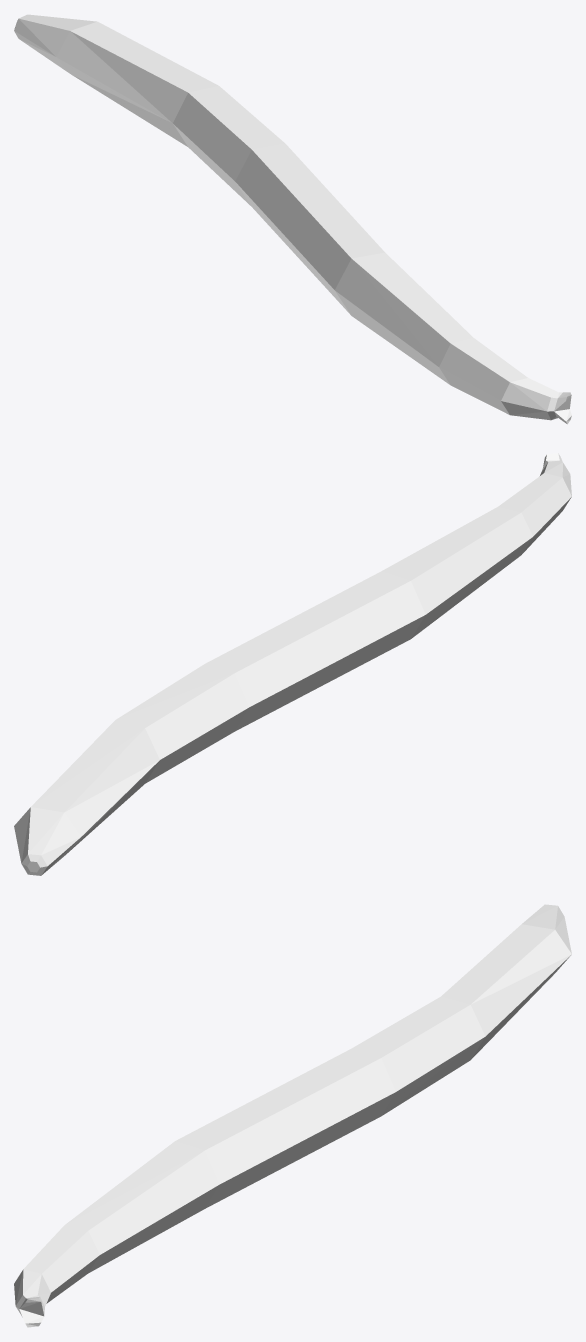
Rendered from Crop_Bean_03.glb.
3 views of the same model, one above another, from view 1: azimuth 30°, elevation 25°; view 2: azimuth 150°, elevation 25°; view 3: azimuth 330°, elevation 25° (orthographic).
Parts seen in each view (by area): view 1: Crop_Bean_03; view 2: Crop_Bean_03; view 3: Crop_Bean_03.
Boxes of the visible parts, x1,y1,x2,y2 form: Crop_Bean_03: [14, 14, 571, 424]; Crop_Bean_03: [14, 453, 571, 875]; Crop_Bean_03: [14, 904, 571, 1327].
Size of the model in its own units: 0.0162 by 0.00802 by 0.135.
Materials: 1 (1 with a texture image).
